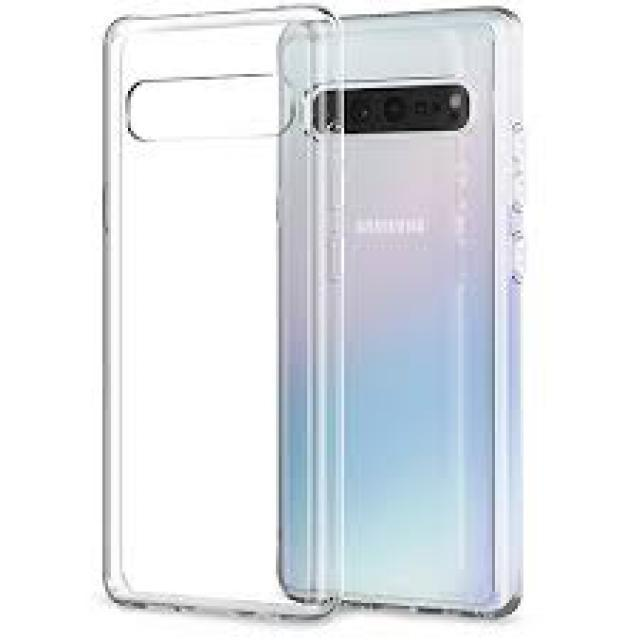phone: (274, 9, 528, 622)
